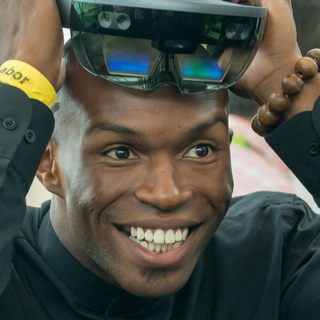eye: (95, 140, 146, 165), (177, 138, 221, 163)
